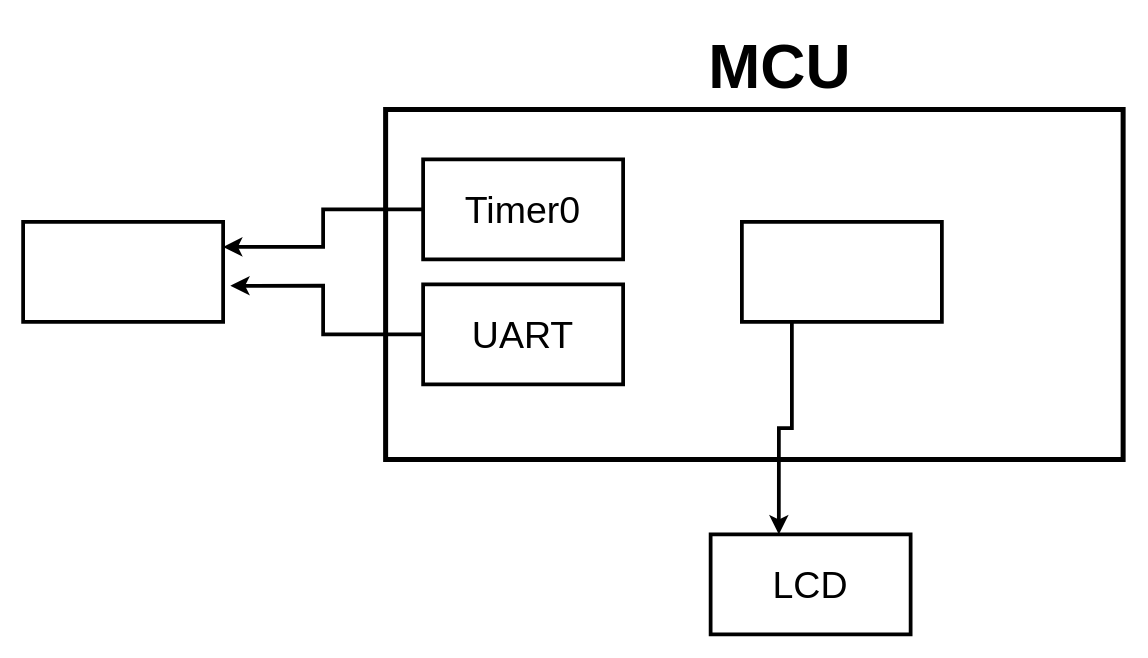
The diagram is 1148 pixels wide and 658 high, and some of its shapes have lost their labels. The shapes that lost their labels are listed below. From the top down, each one's centre as x and y in pixels, then its label:
the point at 122,271: ESP8266
the point at 841,271: DIO
